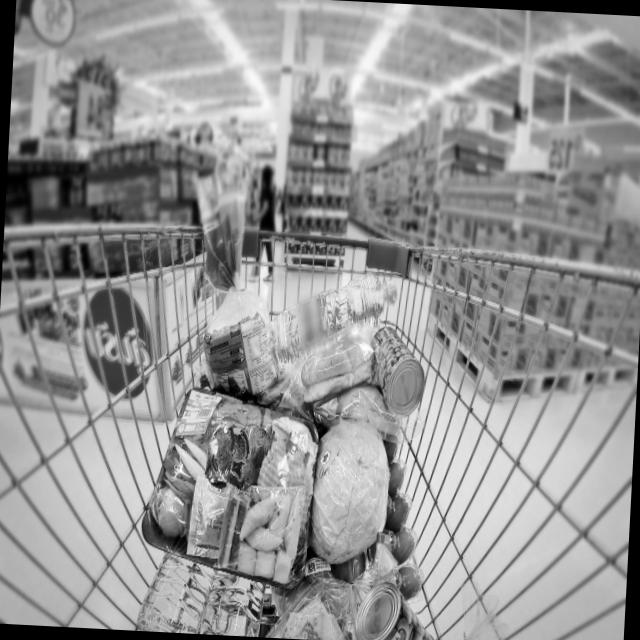bap cai: (303, 426, 392, 566)
bread: (194, 195, 284, 408), (268, 578, 352, 640)
egg: (364, 443, 426, 598)
oil: (260, 264, 404, 387)
